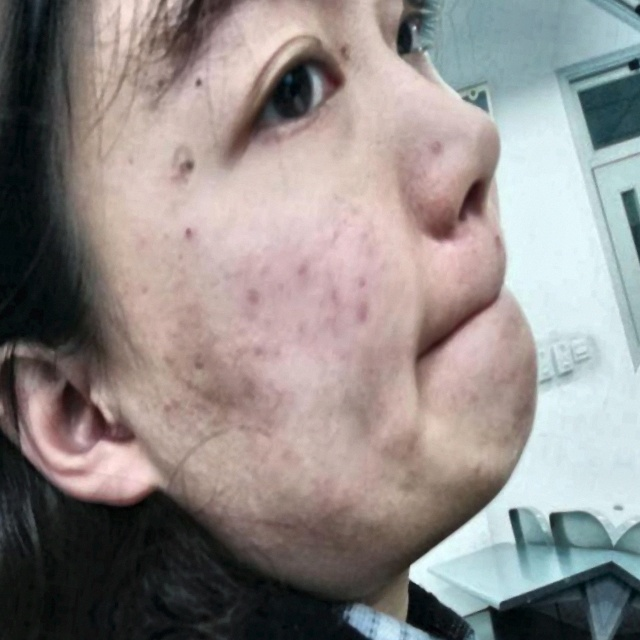comedone: (176, 209, 202, 245)
